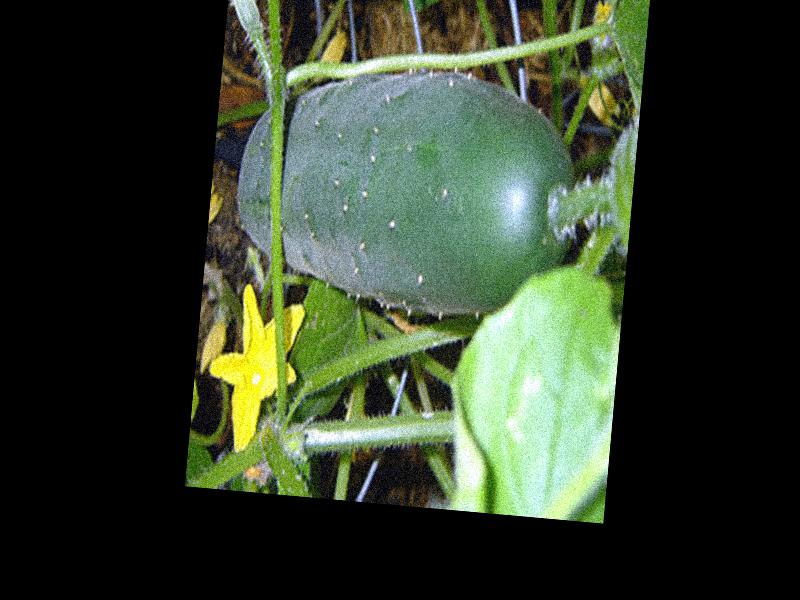Cucumber: (231, 56, 590, 325)
